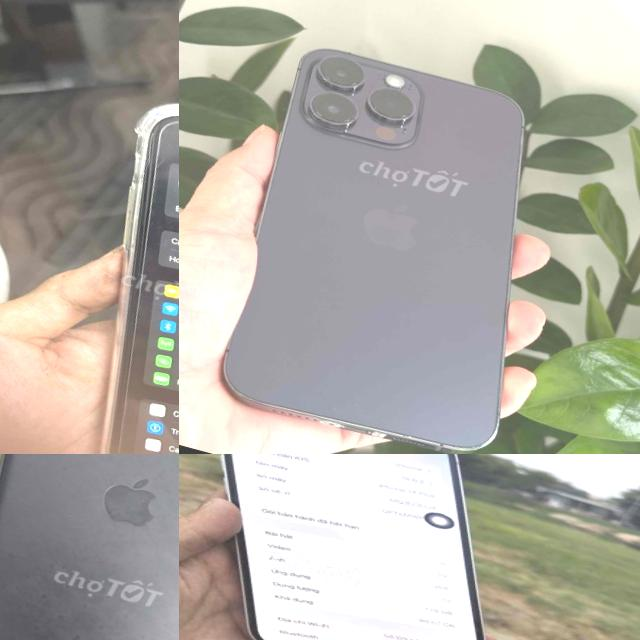gen_11: (33, 71, 179, 454)
gen_14: (193, 20, 585, 454), (179, 454, 551, 640)
gen_7_8: (0, 454, 179, 640)
